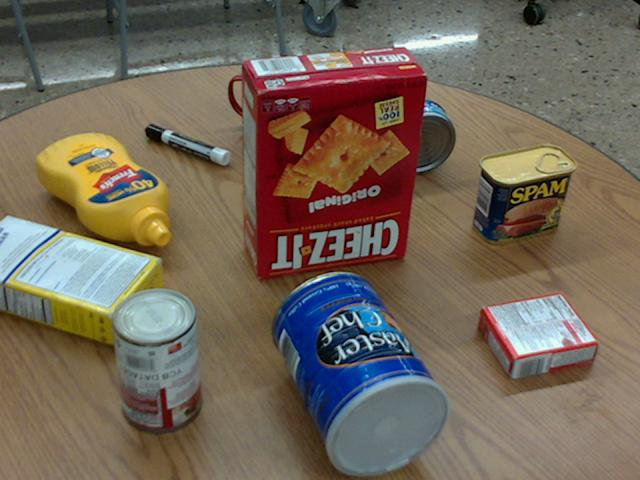cracker_box: (239, 44, 427, 279)
gelatin_box: (477, 290, 597, 377)
large_marker: (144, 124, 230, 164)
master_chef_can: (271, 270, 452, 477)
mug: (227, 58, 320, 146)
mustard_bottle: (37, 132, 169, 245)
potted_meat_can: (473, 143, 575, 244)
sugar_box: (0, 212, 163, 346)
tomato_soup_can: (112, 286, 203, 431)
tuna_fish_can: (379, 99, 454, 172)
